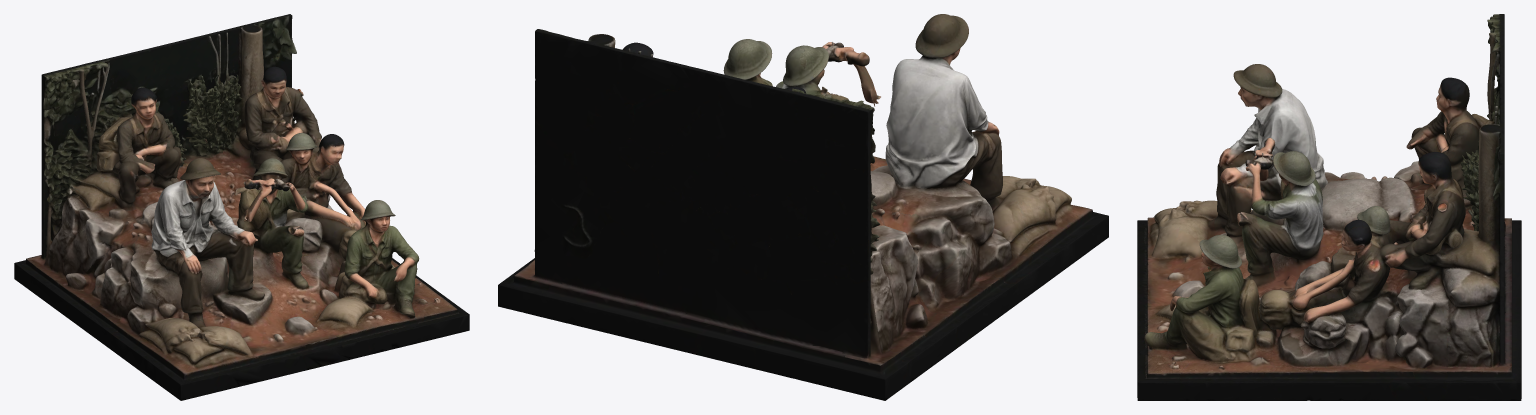
Rendered from Bác Hồ chỉ đạo.glb.
3 renders of one model, left to right at view 1: azimuth 30°, elevation 25°; view 2: azimuth 150°, elevation 25°; view 3: azimuth 270°, elevation 25°, orthographic. The views are drawn at different scales.
Size of the model in its own units: 1.9 by 1.29 by 1.9.
1 material, 1 textured.
